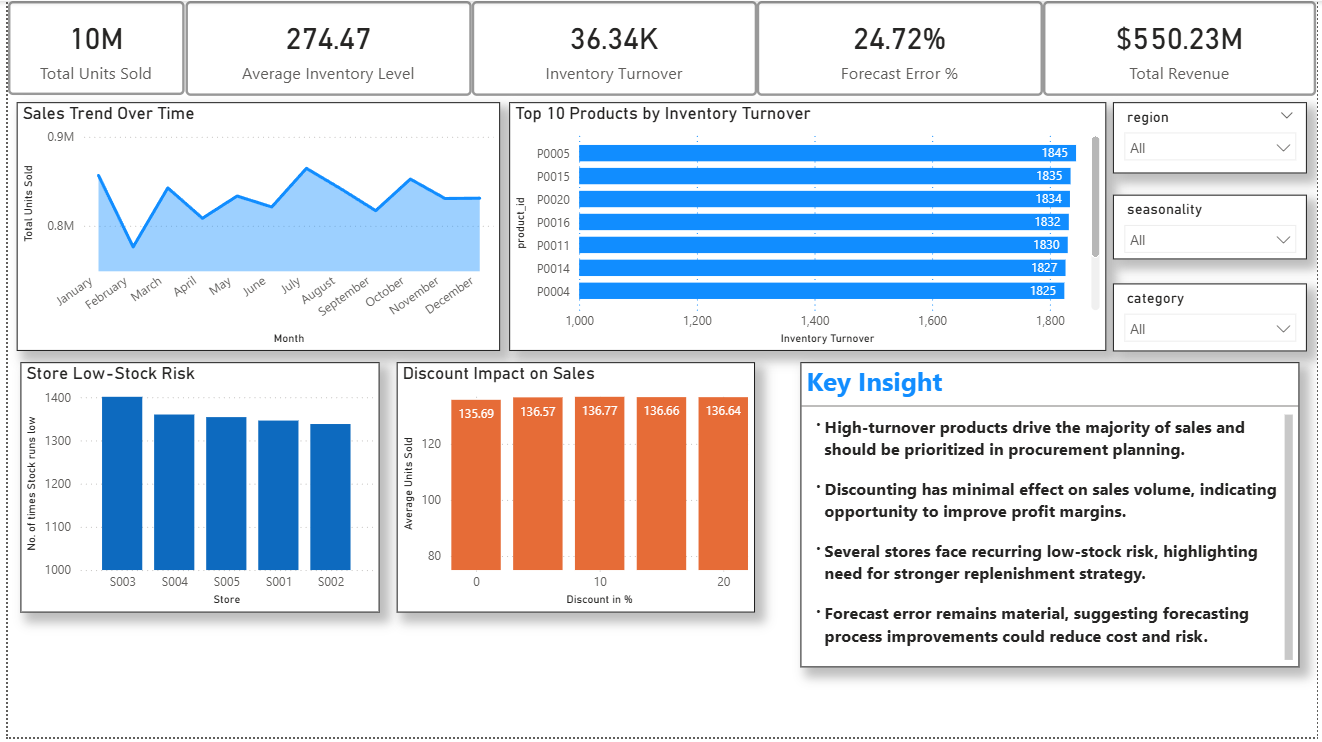

The dashboard page shown, as its layout file describes it:
{"tool":"powerbi","page":{"name":"Inventory Optimization Dashboard","canvas":[1280,720],"ordinal":0},"visuals":[{"type":"card","fields":{"Values":["inventory.Total Units Sold"]},"box":[0,0,172.8,92.2],"z":0},{"type":"card","fields":{"Values":["inventory.Average Inventory Level"]},"box":[173.1,0,280.1,92.4],"z":1000},{"type":"card","fields":{"Values":["inventory.Inventory Turnover"]},"box":[453.3,0,279.1,92.4],"z":2000},{"type":"card","fields":{"Values":["inventory.Total Revenue"]},"box":[1012.5,0,267.5,92.4],"z":3000},{"type":"card","fields":{"Values":["inventory.Forecast Error %"]},"box":[732.4,0,280.1,92.4],"z":4000},{"type":"lineChart","title":"Sales Trend Over Time","fields":{"Y":["inventory.Total Units Sold"],"Category":["inventory.date.Variation.Date Hierarchy.Year","inventory.date.Variation.Date Hierarchy.Quarter","inventory.date.Variation.Date Hierarchy.Month","inventory.date.Variation.Date Hierarchy.Day"]},"box":[8.1,99.4,472.8,243.6],"z":5000},{"type":"barChart","title":"Top 10 Products by Inventory Turnover","fields":{"Y":["inventory.Inventory Turnover"],"Category":["inventory.product_id"]},"box":[490.7,99.4,583.9,243.6],"z":6000},{"type":"clusteredColumnChart","title":"Store Low-Stock Risk","fields":{"Category":["inventory.store_id"],"Y":["Sum(inventory.Low Stock Risk)"]},"box":[12.5,353.7,351,244.5],"z":7000},{"type":"clusteredColumnChart","title":"Discount Impact on Sales","fields":{"Category":["inventory.discount"],"Y":["Avg(inventory.units_sold)"]},"box":[379.7,353.7,350,244.5],"z":8000},{"type":"slicer","fields":{"Values":["inventory.region"]},"box":[1080.9,99.4,189.9,69.9],"z":9000},{"type":"slicer","fields":{"Values":["inventory.seasonality"]},"box":[1080.9,189,189.9,63.6],"z":10000},{"type":"slicer","fields":{"Values":["inventory.category"]},"box":[1080.9,276.7,189.9,66.3],"z":11000},{"type":"textbox","title":"Key Insight","box":[775.5,353.7,488.1,298.2],"z":12000}]}

Visuals, with their boxes in screenshot pixels (x1, y1, x2, y2), scaled from the page's 1280x720 canvas onto the 1322x742 screenshot:
card - inventory.Total Units Sold: <bbox>0, 0, 178, 95</bbox>
card - inventory.Average Inventory Level: <bbox>179, 0, 468, 95</bbox>
card - inventory.Inventory Turnover: <bbox>468, 0, 756, 95</bbox>
card - inventory.Total Revenue: <bbox>1046, 0, 1321, 95</bbox>
card - inventory.Forecast Error %: <bbox>756, 0, 1046, 95</bbox>
"Sales Trend Over Time" lineChart: <bbox>8, 102, 497, 353</bbox>
"Top 10 Products by Inventory Turnover" barChart: <bbox>507, 102, 1110, 353</bbox>
"Store Low-Stock Risk" clusteredColumnChart: <bbox>13, 365, 375, 616</bbox>
"Discount Impact on Sales" clusteredColumnChart: <bbox>392, 365, 754, 616</bbox>
slicer - inventory.region: <bbox>1116, 102, 1312, 174</bbox>
slicer - inventory.seasonality: <bbox>1116, 195, 1312, 260</bbox>
slicer - inventory.category: <bbox>1116, 285, 1312, 353</bbox>
"Key Insight" textbox: <bbox>801, 365, 1305, 672</bbox>
